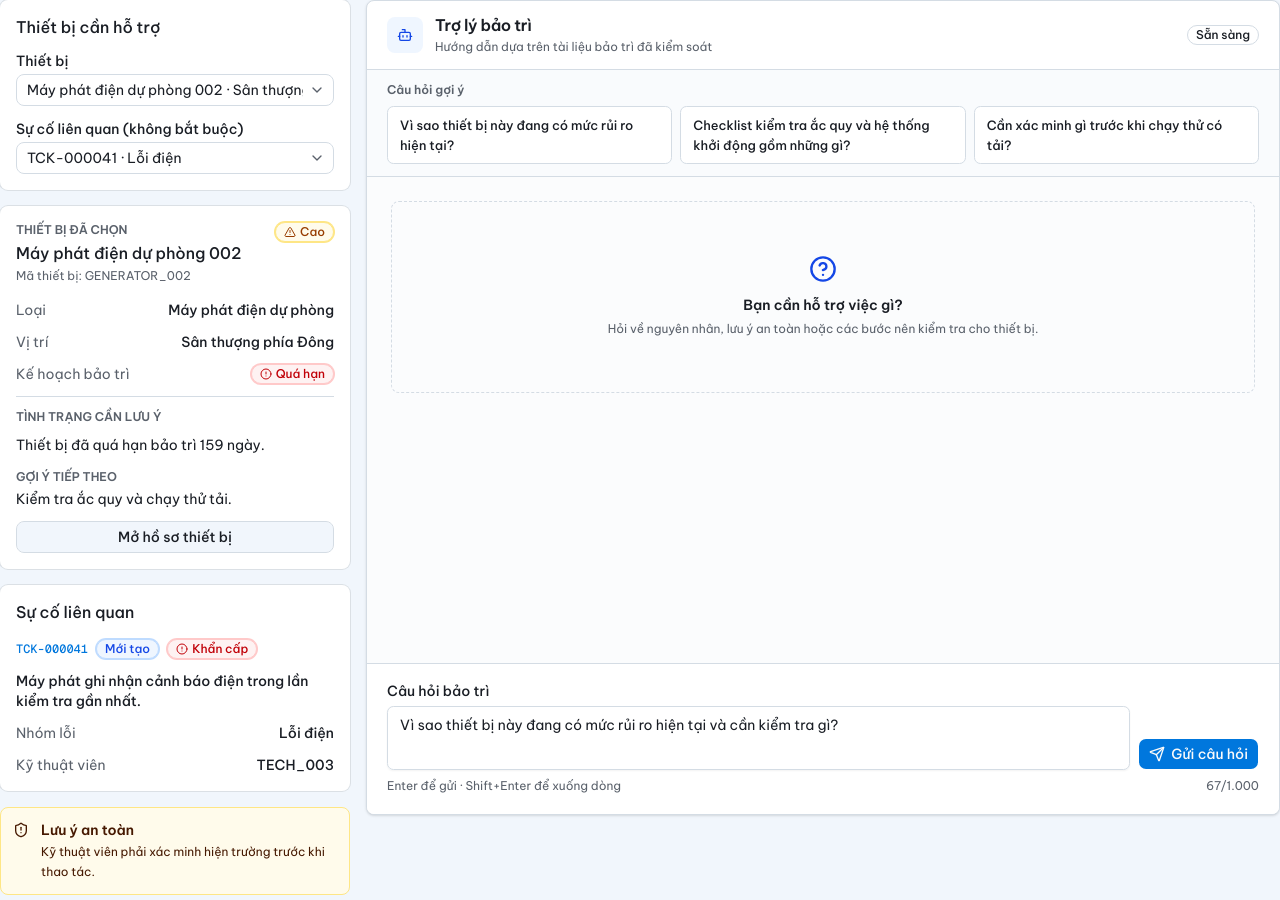
Test: live Copilot workspace › does not restore cleared history or hidden context from a delayed response
Press Enter in the text box labelled "Câu hỏi bảo trì", box [387, 706, 1130, 770]
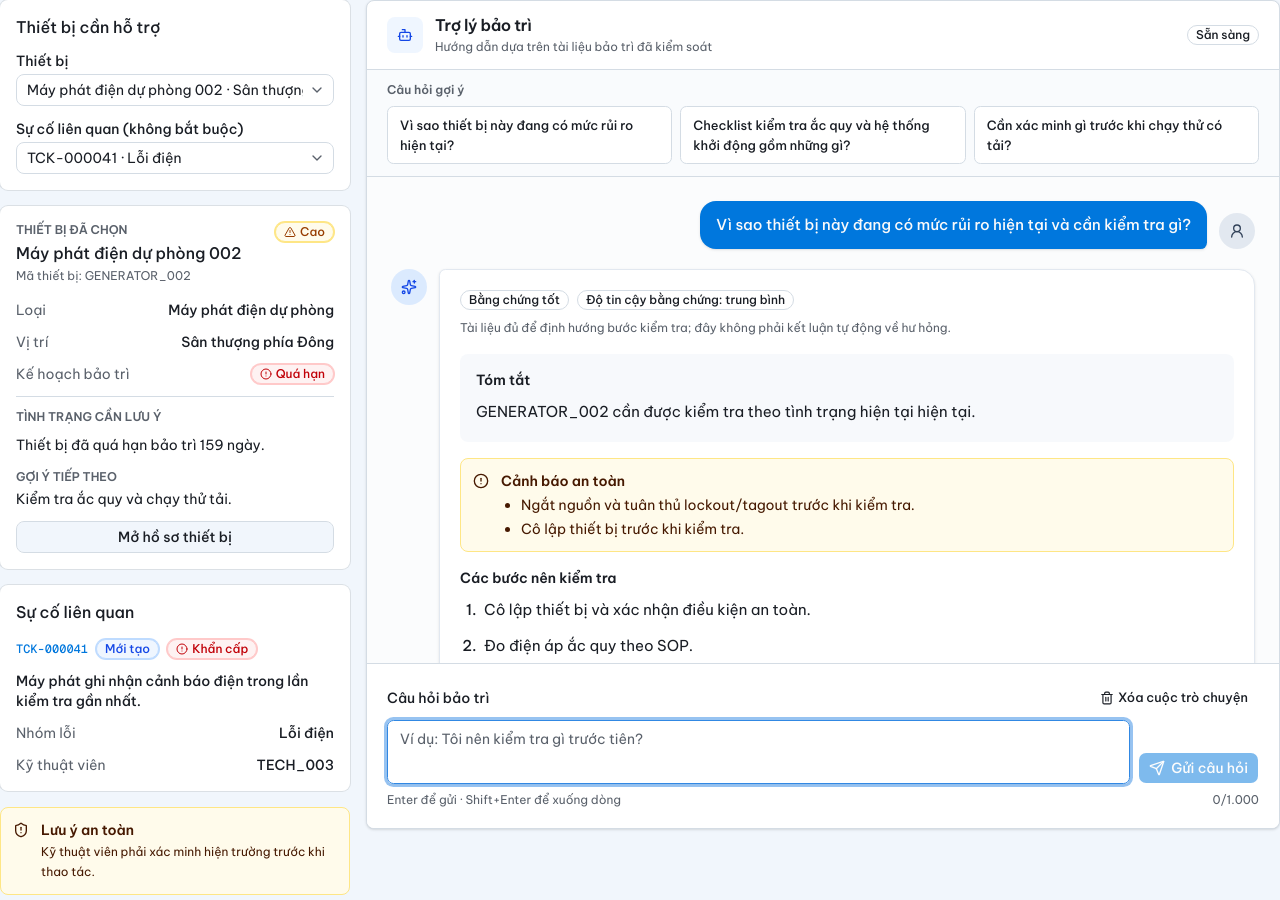
expect the heading "Tóm tắt" is shown: met, box [476, 371, 530, 389]
Type "Cảnh báo trước thì sao?" into the text box labelled "Câu hỏi bảo trì" at point(759, 752), box [387, 720, 1130, 784]
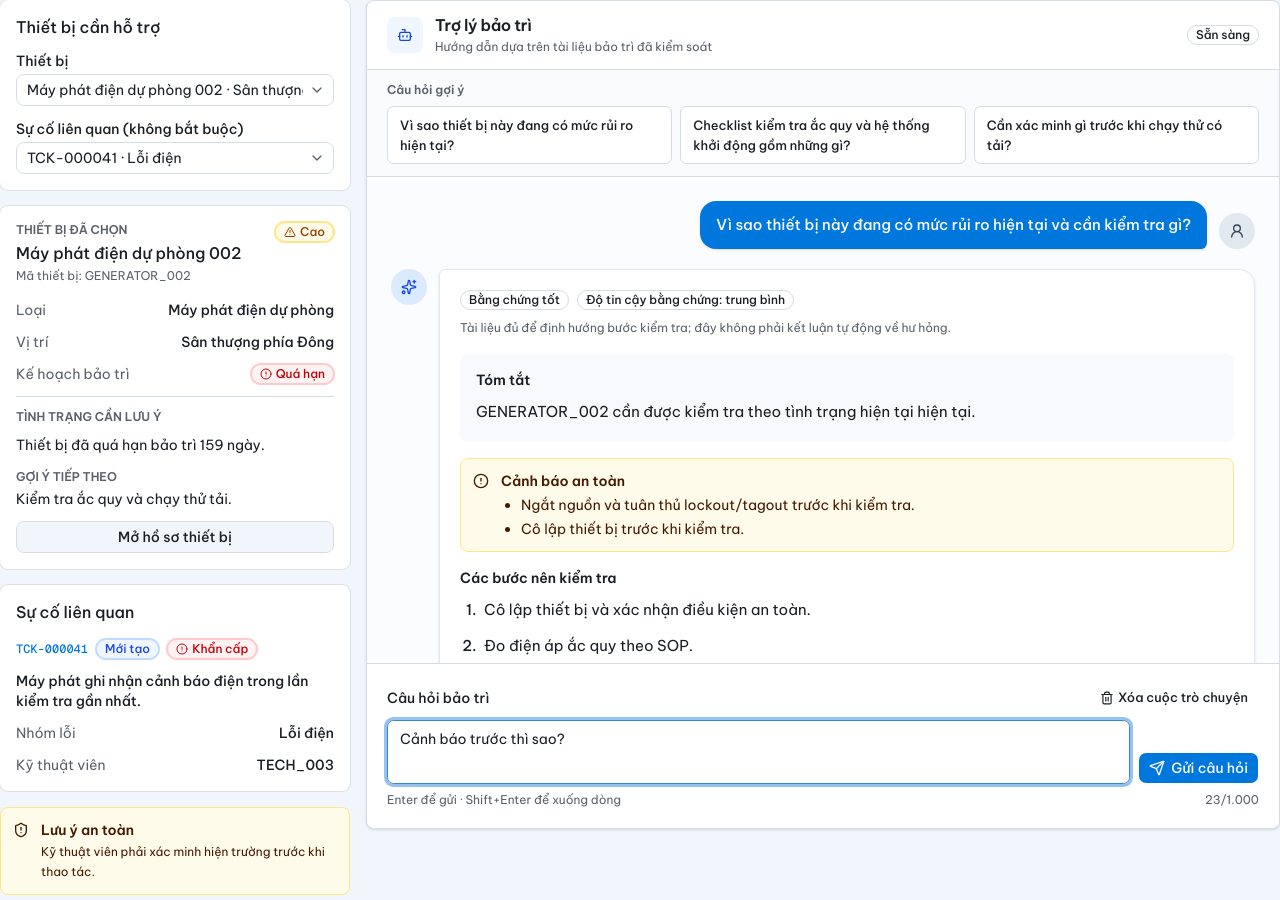
Press Enter in the text box labelled "Câu hỏi bảo trì", box [387, 720, 1130, 784]
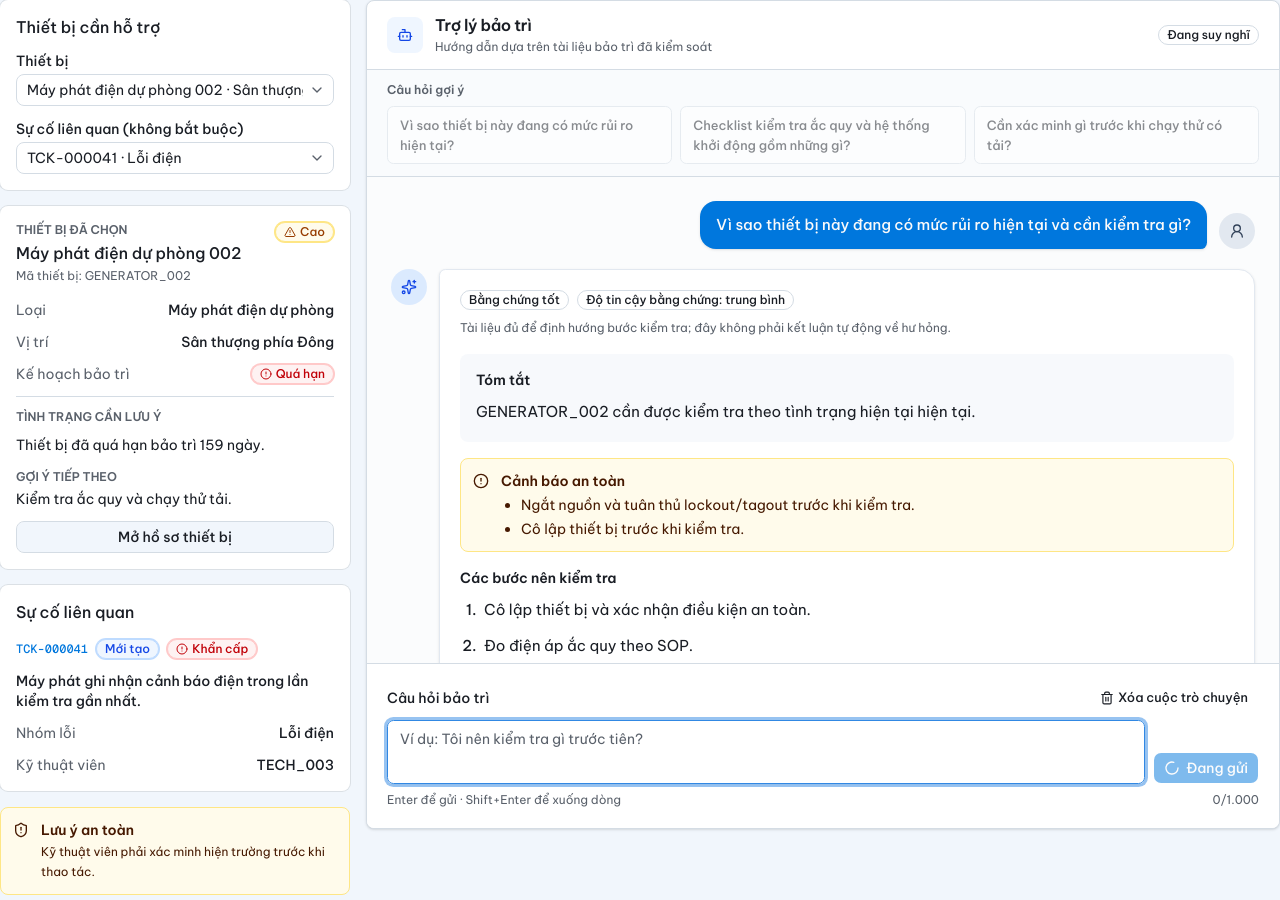
Click the button "Xóa cuộc trò chuyện" at point(1174, 698), box [1089, 684, 1259, 712]
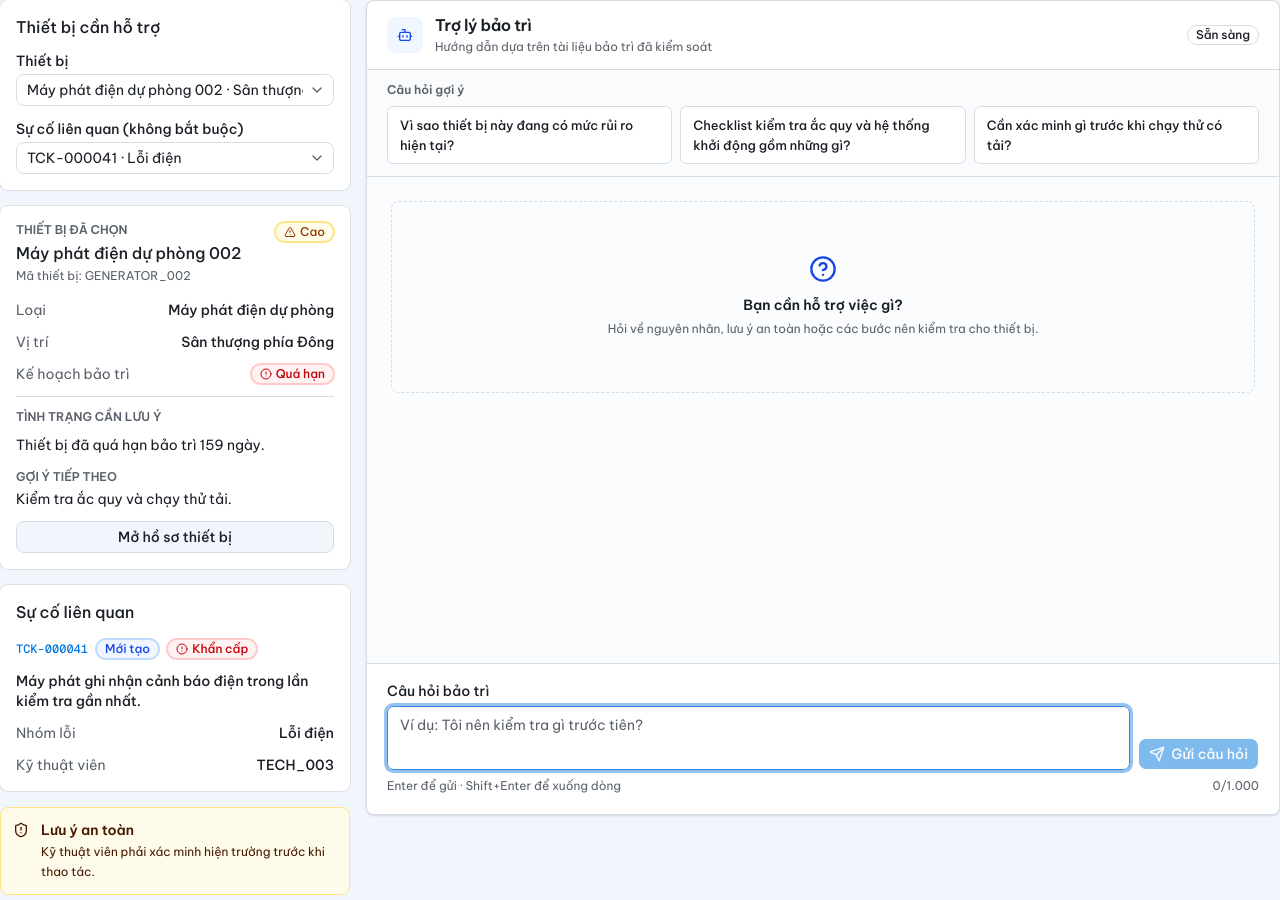
Type "Máy phát không khởi động cần kiểm tra gì?" into the text box labelled "Câu hỏi bảo trì" at point(759, 738), box [387, 706, 1130, 770]
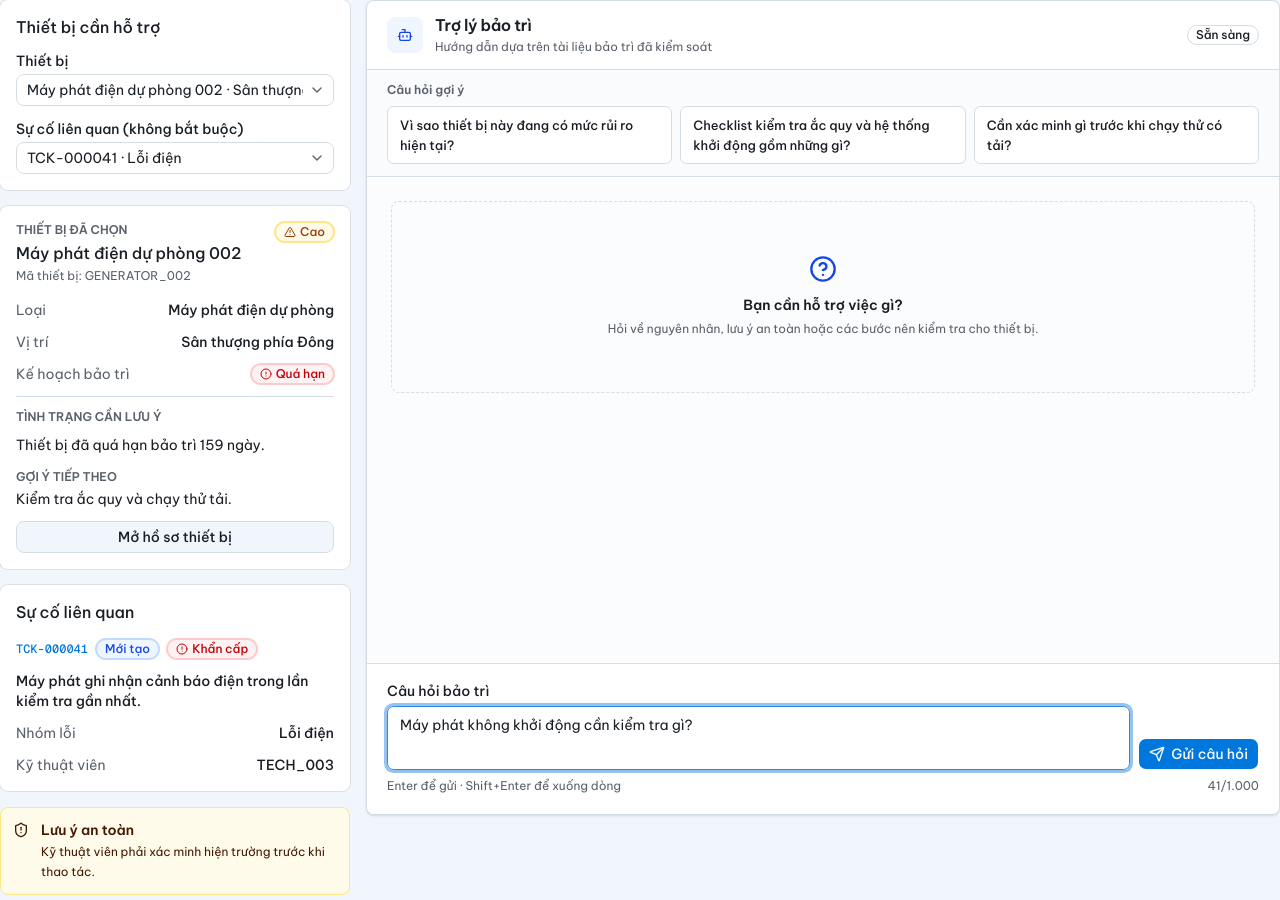
Press Enter in the text box labelled "Câu hỏi bảo trì", box [387, 706, 1130, 770]
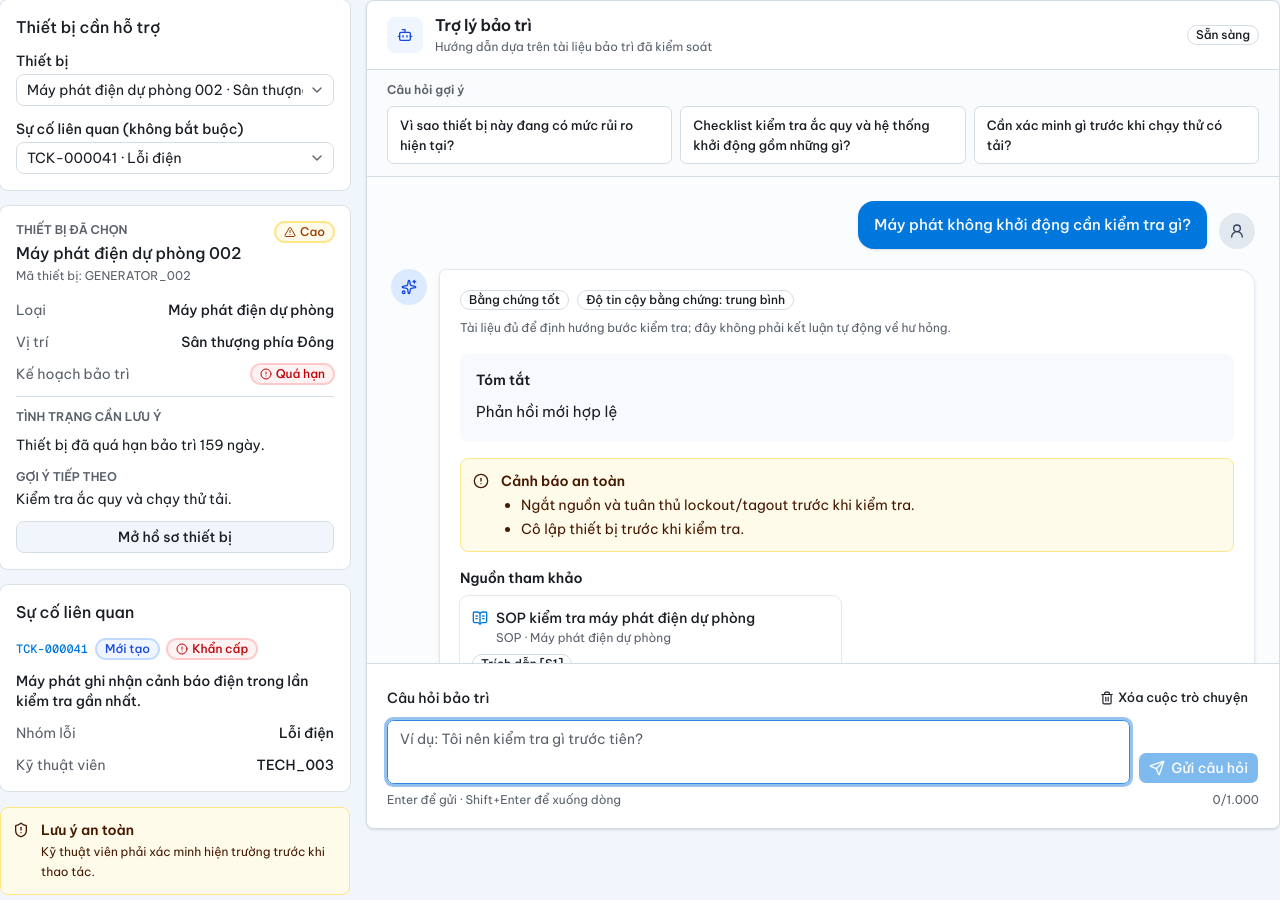
expect the text "Phản hồi mới hợp lệ" is shown: met, box [476, 402, 618, 421]
